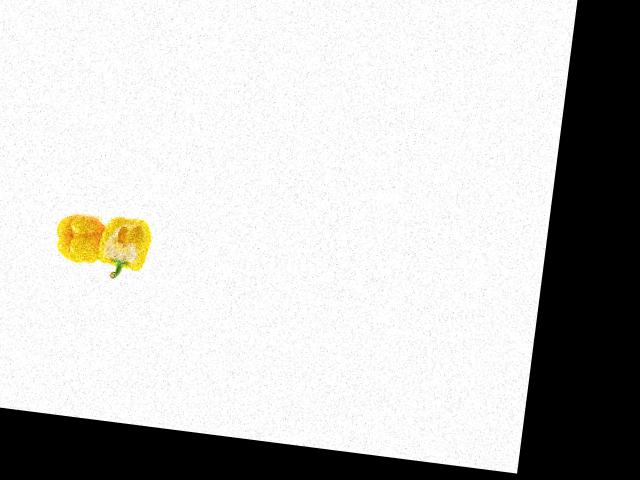bell_pepper: (85, 201, 158, 284)
